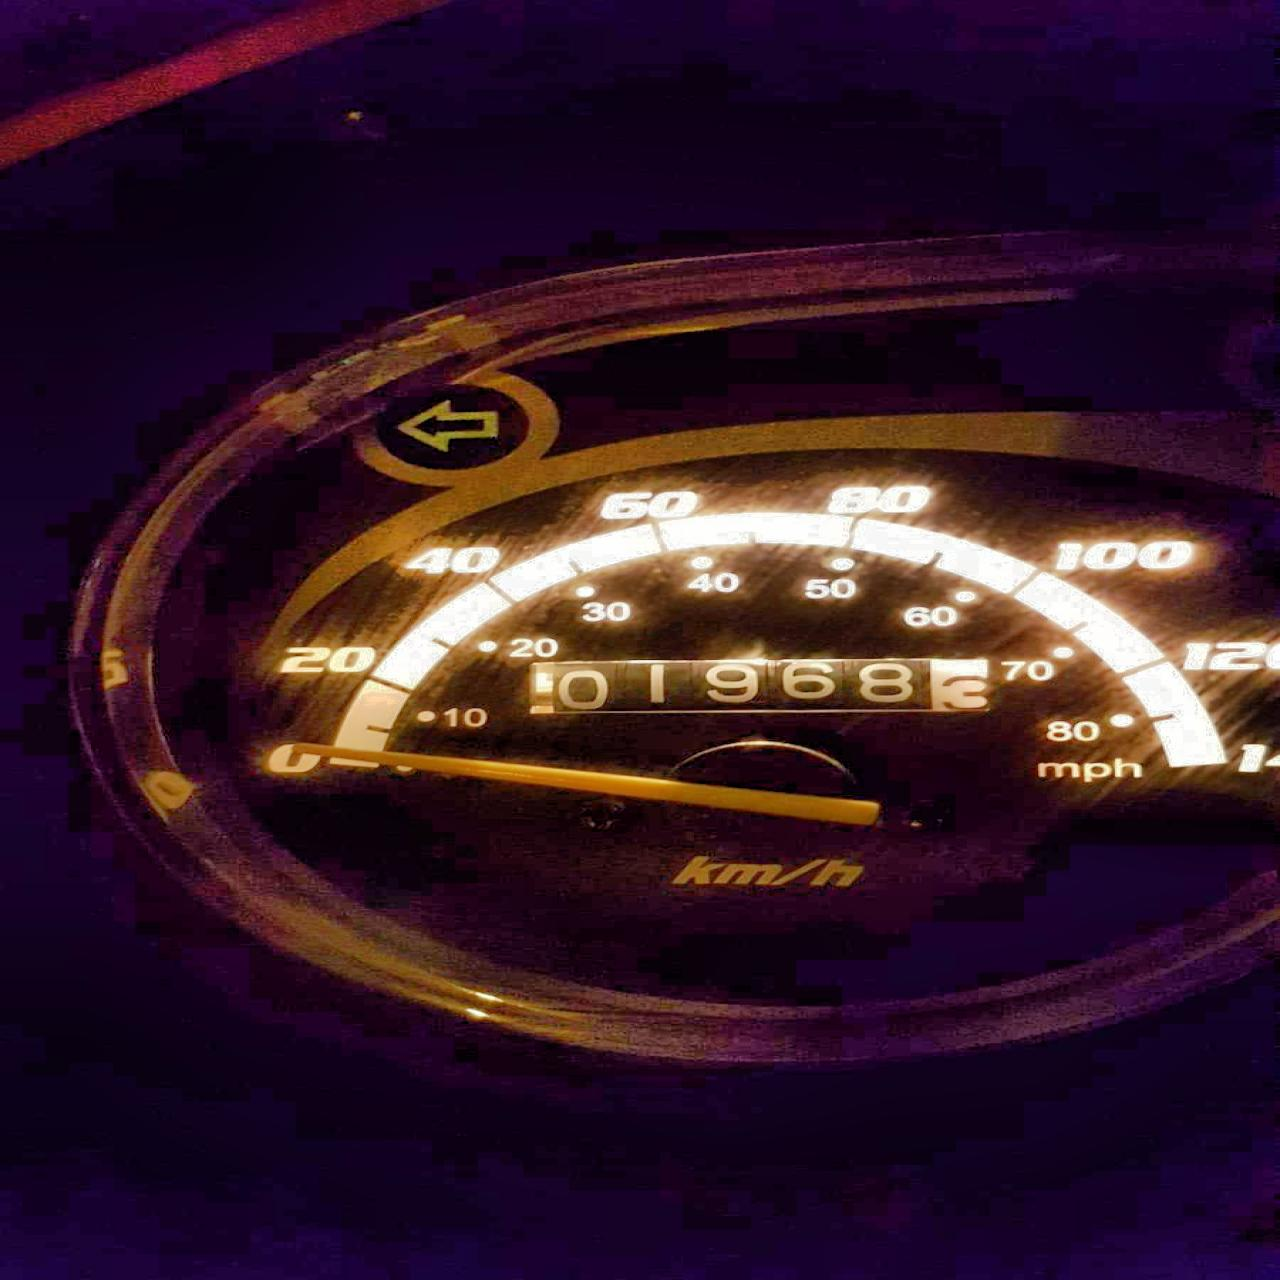0: (553, 668, 610, 710)
1: (640, 661, 672, 704)
3: (937, 673, 993, 712)
6: (778, 660, 838, 700)
8: (853, 661, 915, 704)
9: (700, 662, 761, 704)
odometer: (517, 653, 995, 719)
